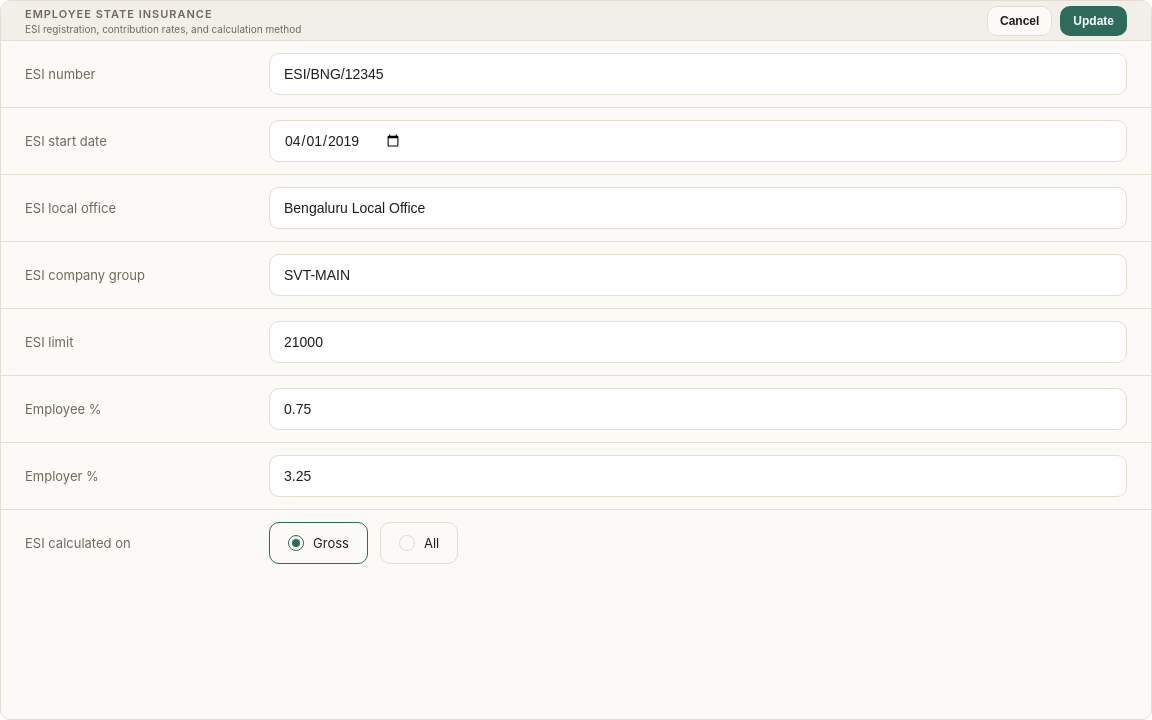
Test: EsiSection — edit mode › prefills the org values and reverts on Cancel
Replace the text in the field showing "ESI/BNG/12345" in the row of "ESI number" with "NEW ESI" at (698, 74), box [269,53,1127,95]
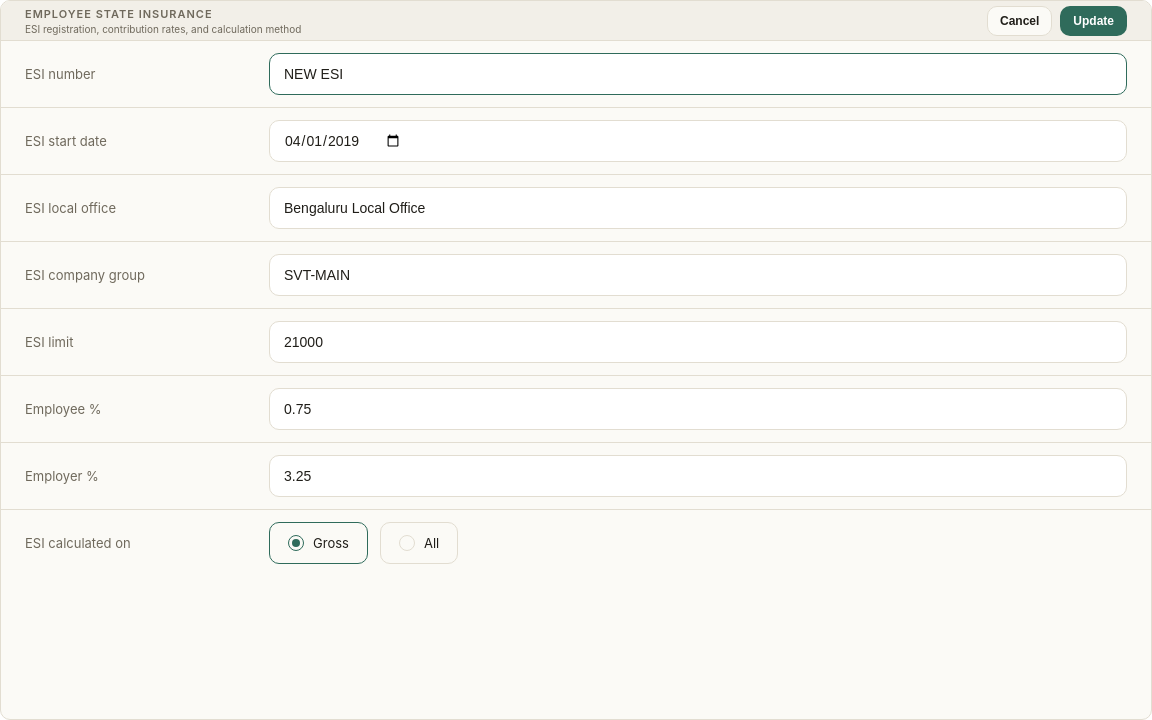
Click the button "Cancel" at (1020, 20), box [987,6,1052,36]
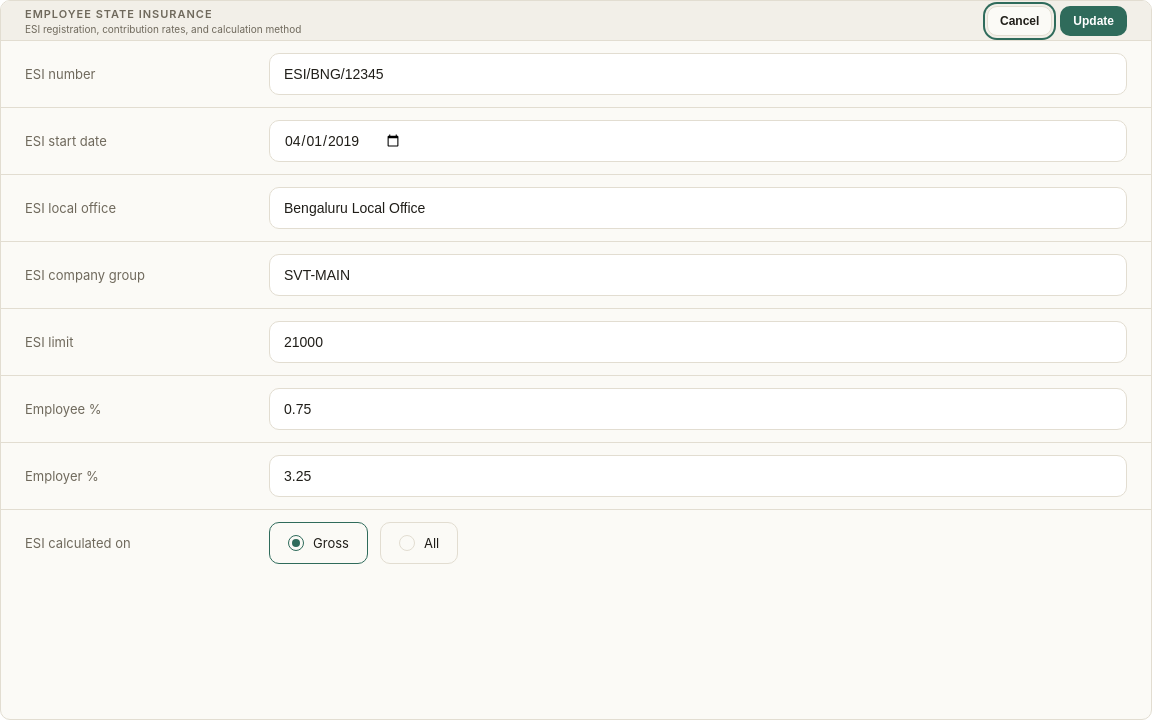
Now the field showing "ESI/BNG/12345" in the row of "ESI number" is shown, box [269,53,1127,95]
